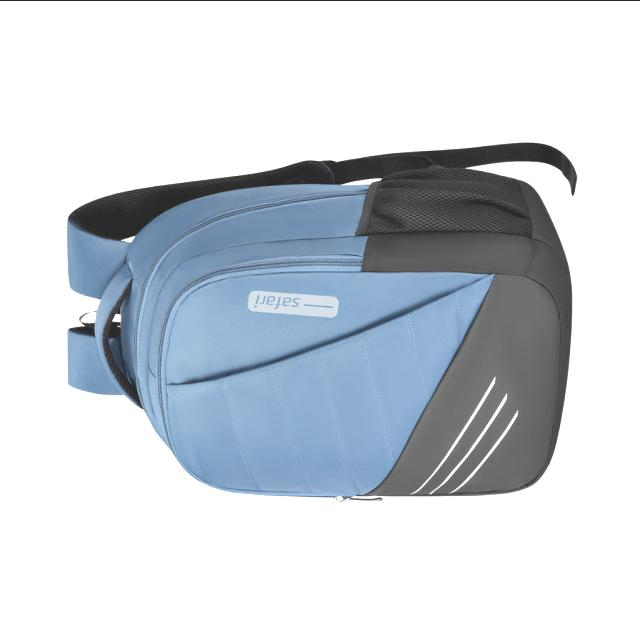backpack: (66, 142, 578, 502)
